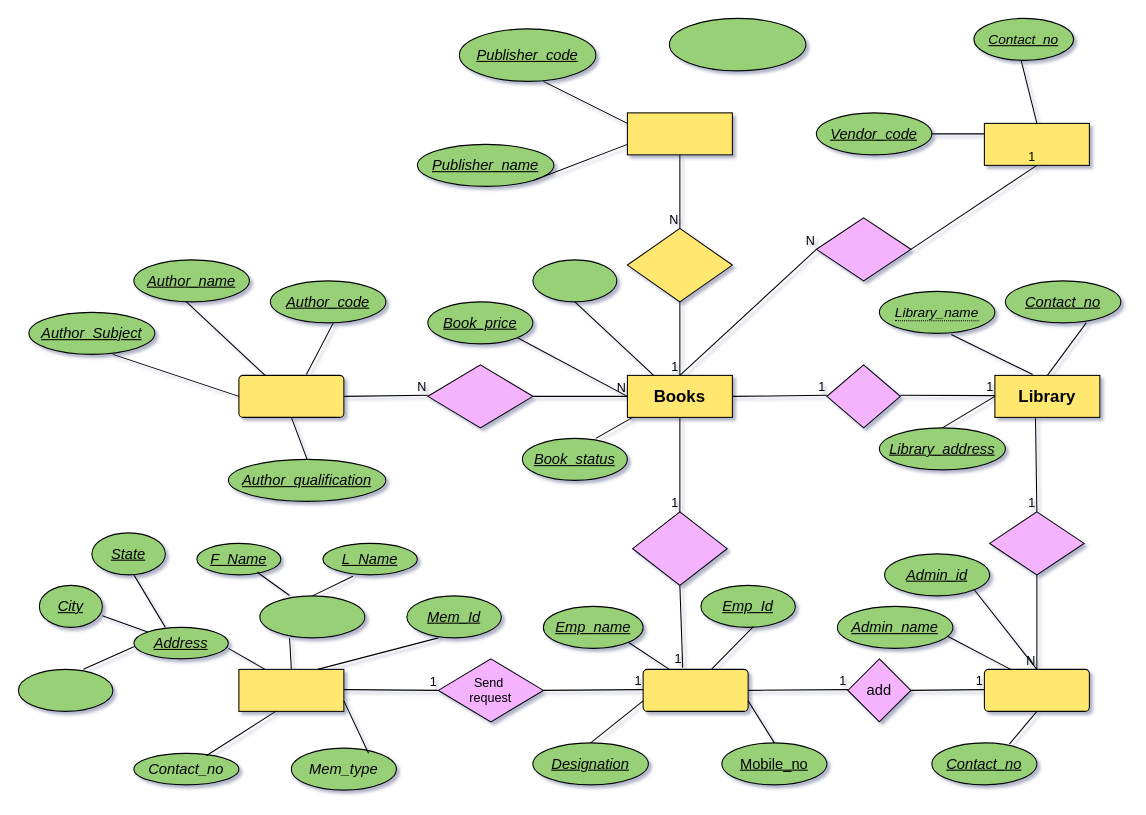
The diagram is 1146 pixels wide and 815 high, and some of its shapes have lost their labels. Each missing label, with the centre of its shape:
"Admin" belongs at point 1036,689.
"Author" belongs at point 291,395.
"Book_id" belongs at point 574,280.
"Employee" belongs at point 695,689.
"has" belongs at point 863,396.
"Issue / recieve" belongs at point 679,548.
"manage" belongs at point 1036,543.
"Member" belongs at point 291,689.
"Name" belongs at point 312,616.
"Pin_code" belongs at point 65,689.
"publish" belongs at point 679,264.
"Publisher" belongs at point 679,133.
"Publisher_Country" belongs at point 737,44.
"Sales" belongs at point 863,249.
"Vendor" belongs at point 1036,143.
"Written by" belongs at point 480,396.
